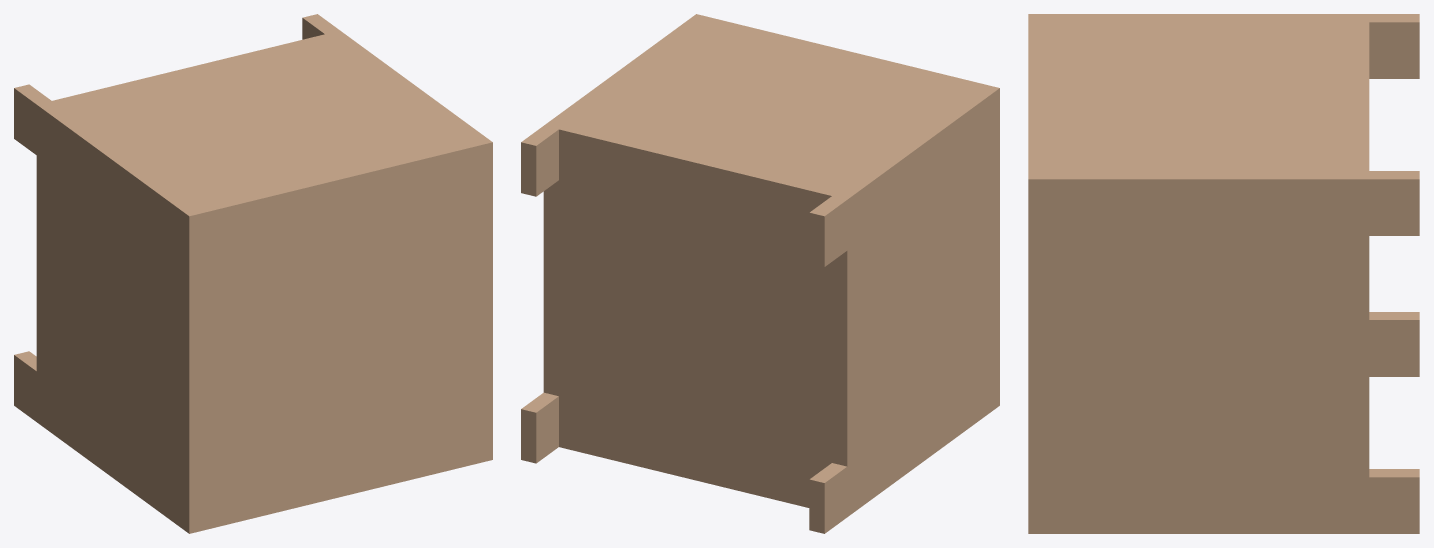
File: tv-stand.glb
The picture shows the model from 3 angles, left to right: view 1: azimuth 30°, elevation 25°; view 2: azimuth 150°, elevation 25°; view 3: azimuth 270°, elevation 25°; orthographic projection. The views are drawn at different scales.
Visible parts, largest first — view 1: furniture/tv-stand; view 2: furniture/tv-stand; view 3: furniture/tv-stand.
Boxes of the visible parts, x1,y1,x2,y2 form: furniture/tv-stand: (14, 14, 492, 533); furniture/tv-stand: (521, 14, 999, 533); furniture/tv-stand: (1028, 14, 1419, 533).
Size of the model in its own units: 1 by 1 by 1.
